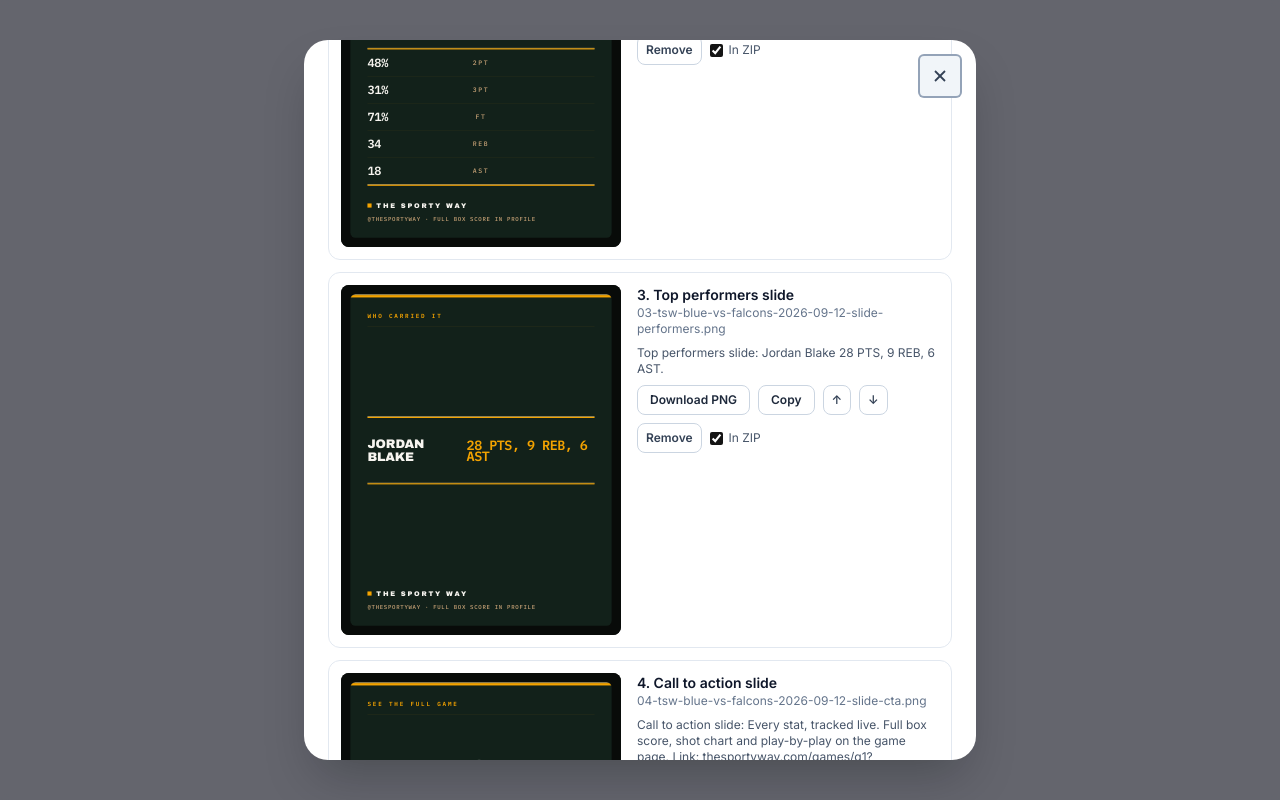
Scenario: GameSocialKitModal › renumbers the files when a slide is moved
(page scrolled)
Click the button named "Move Top performers slide earlier" at (837, 400), box left=822, top=385, right=851, bottom=415
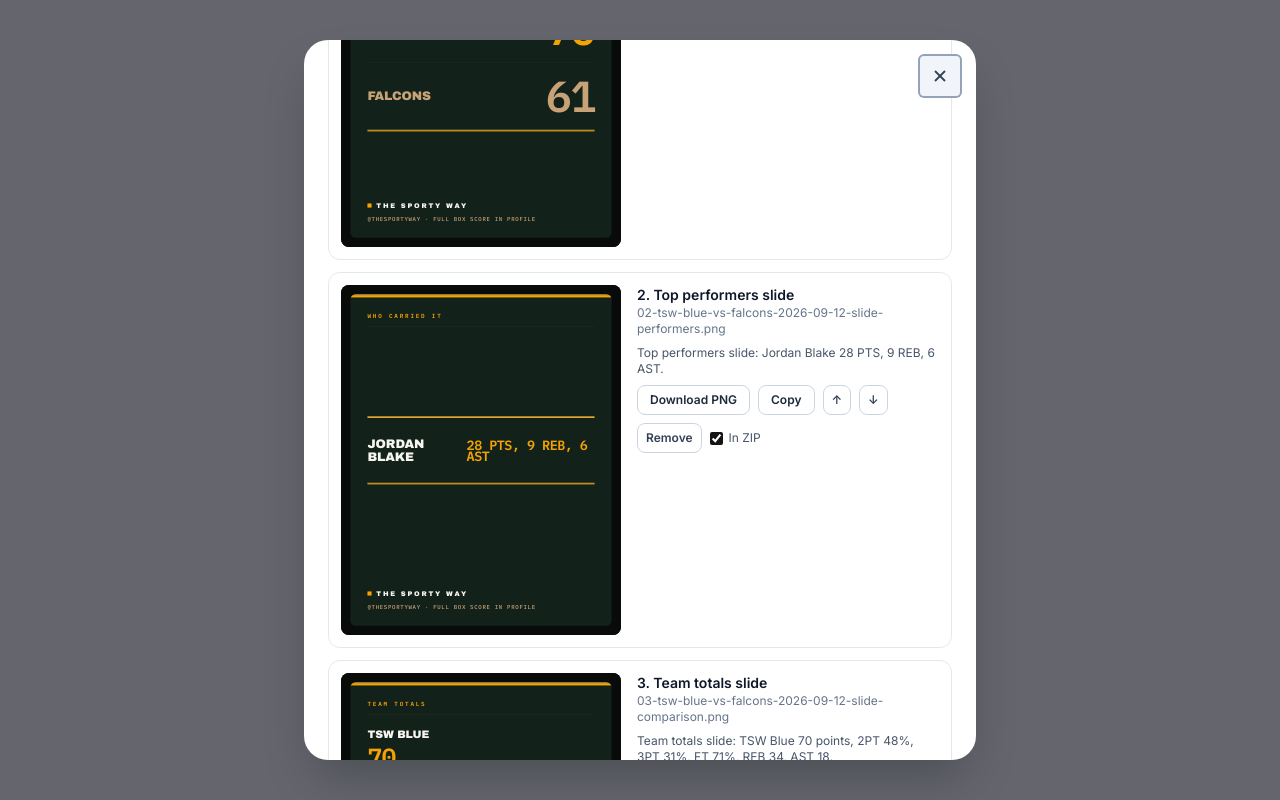
expect the text "2. Top performers slide" is shown: met, box left=637, top=286, right=794, bottom=303
expect the text "3. Team totals slide" is shown: met, box left=637, top=674, right=767, bottom=691
expect the text "02-tsw-blue-vs-falcons-2026-09-12-slide-performers.png" is shown: met, box left=637, top=305, right=883, bottom=336
